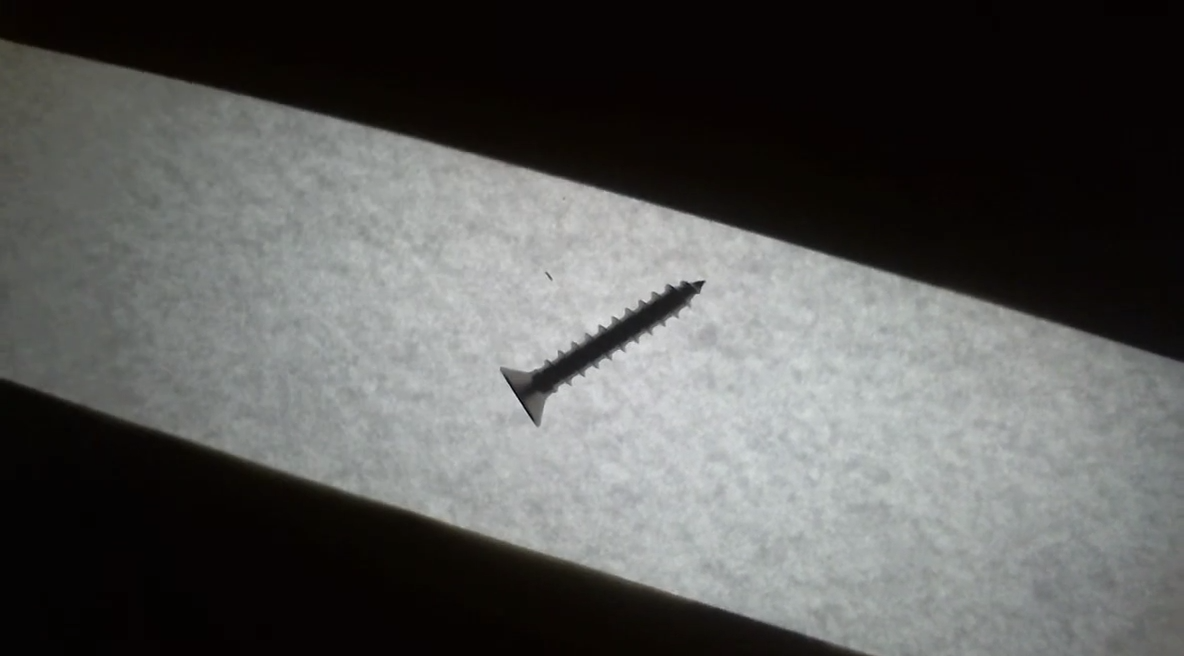S001: (486, 253, 722, 438)
